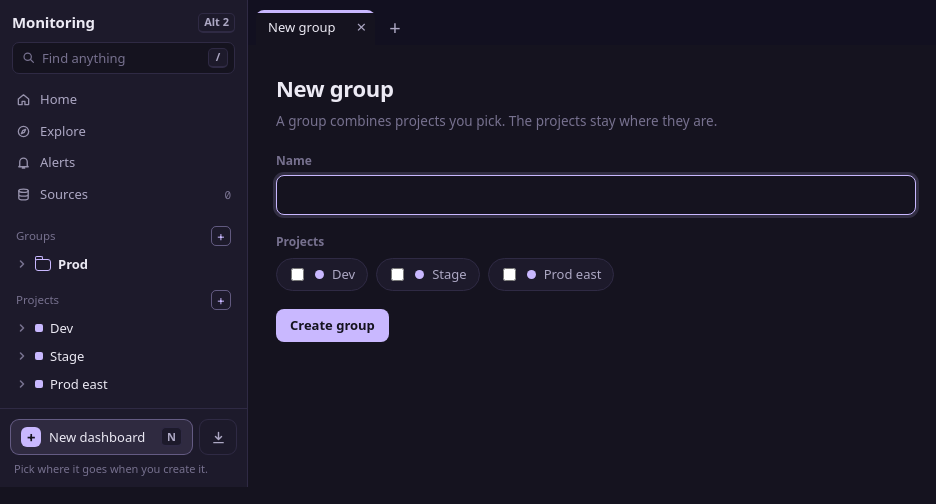
Groups › shows the server's words when a group can't be made
Type "prod" into the field labelled "Name".
click(596, 195); type("prod")  # box [276,175,916,215]
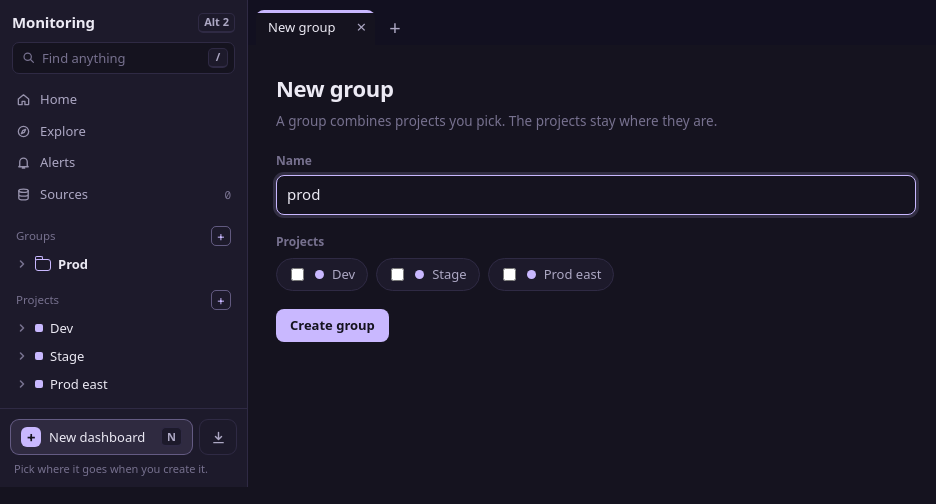
Click the button "Create group".
click(332, 326)  # box [276,309,389,342]
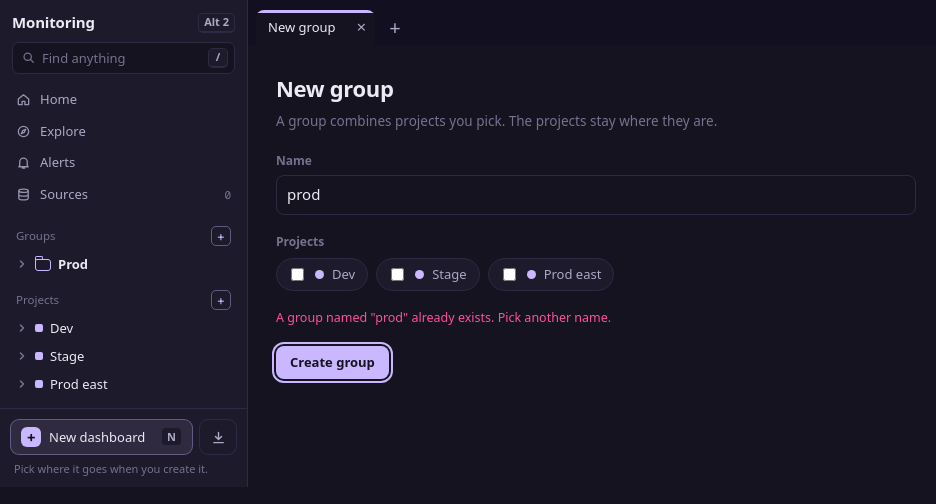
Expected: the message shows "A group named \"prod\" already exists.", [276,309,611,326]
